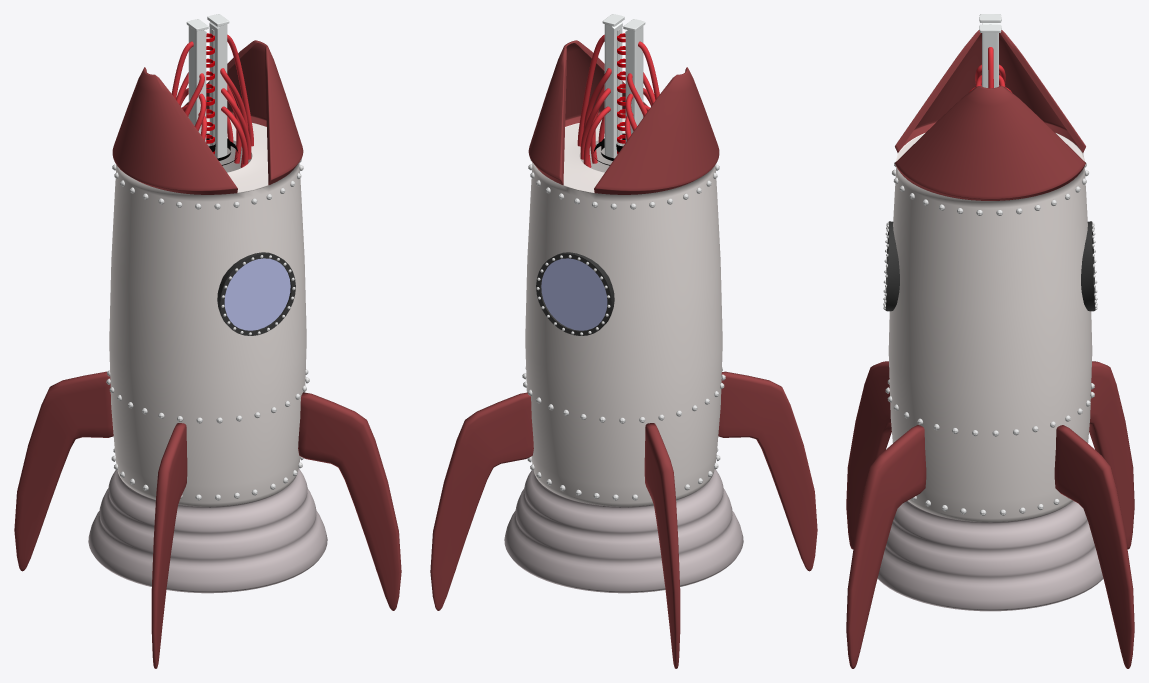
File: rocket 1.glb
3 renders of one model, left to right at view 1: azimuth 30°, elevation 25°; view 2: azimuth 150°, elevation 25°; view 3: azimuth 270°, elevation 25°, orthographic. The views are drawn at different scales.
Visible parts, largest first — view 1: rocket_body, rocket_wings, window, outside_holder, middle_wire_0, highest_wire, middle_wire_1, circles; view 2: rocket_body, rocket_wings, window, outside_holder, middle_wire_0, highest_wire, middle_wire_1, circles; view 3: rocket_body, rocket_wings, window, outside_holder, middle_upper_bolts, upper_bolts.
Part boxes in pixels (left/top/right/bottom): rocket_body: left=88, top=40, right=327, bottom=593; rocket_wings: left=14, top=371, right=401, bottom=668; window: left=217, top=252, right=295, bottom=335; outside_holder: left=186, top=14, right=229, bottom=158; middle_wire_0: left=176, top=68, right=248, bottom=167; highest_wire: left=171, top=34, right=253, bottom=146; middle_wire_1: left=180, top=88, right=251, bottom=159; circles: left=206, top=33, right=214, bottom=154; rocket_body: left=504, top=40, right=743, bottom=593; rocket_wings: left=430, top=371, right=817, bottom=668; window: left=536, top=252, right=614, bottom=335; outside_holder: left=602, top=14, right=645, bottom=158; middle_wire_0: left=583, top=68, right=655, bottom=167; highest_wire: left=577, top=34, right=659, bottom=146; middle_wire_1: left=580, top=88, right=651, bottom=159; circles: left=617, top=33, right=625, bottom=154; rocket_body: left=877, top=30, right=1103, bottom=611; rocket_wings: left=846, top=361, right=1134, bottom=668; window: left=885, top=221, right=1095, bottom=311; outside_holder: left=979, top=14, right=1001, bottom=87; middle_upper_bolts: left=885, top=379, right=1094, bottom=436; upper_bolts: left=892, top=162, right=1088, bottom=215.
Bounding box in the file's own units: 3.14 × 6.85 × 3.05.
